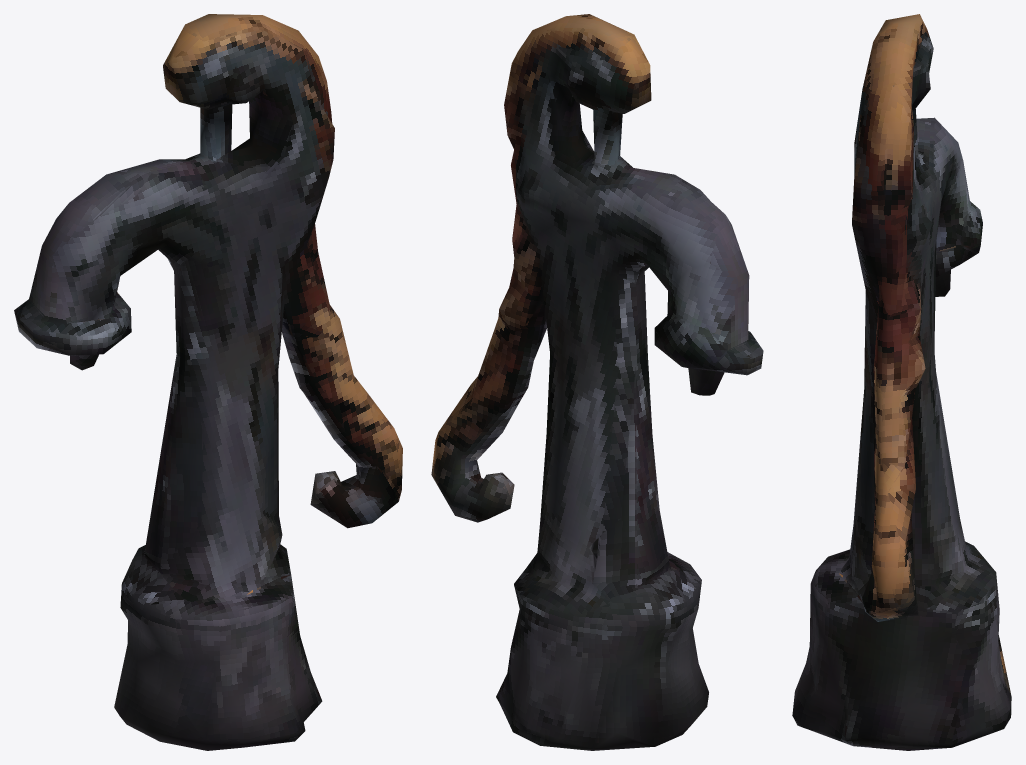
Rendered from pump-iron.glb.
The picture shows the model from 3 angles, left to right: view 1: azimuth 30°, elevation 25°; view 2: azimuth 150°, elevation 25°; view 3: azimuth 270°, elevation 25°; orthographic projection.
Parts seen in each view (by area): view 1: pump-212-9; view 2: pump-212-9; view 3: pump-212-9.
Part boxes in pixels (x1=…): pump-212-9: x1=14, y1=14, x2=402, y2=750; pump-212-9: x1=431, y1=14, x2=763, y2=750; pump-212-9: x1=792, y1=14, x2=1011, y2=750.
Bounding box in the file's own units: 0.6732 × 1.3 × 0.362.
Materials: 1 (1 with a texture image).
